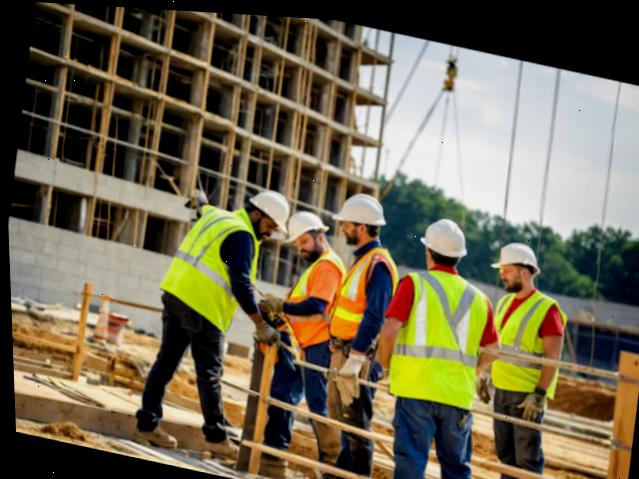helmet: (410, 205, 472, 252), (491, 230, 549, 274), (240, 181, 290, 229), (335, 184, 388, 223), (284, 200, 326, 242)
vest: (375, 254, 489, 405), (156, 196, 263, 315), (473, 274, 570, 394), (321, 237, 402, 342), (272, 237, 342, 342)
